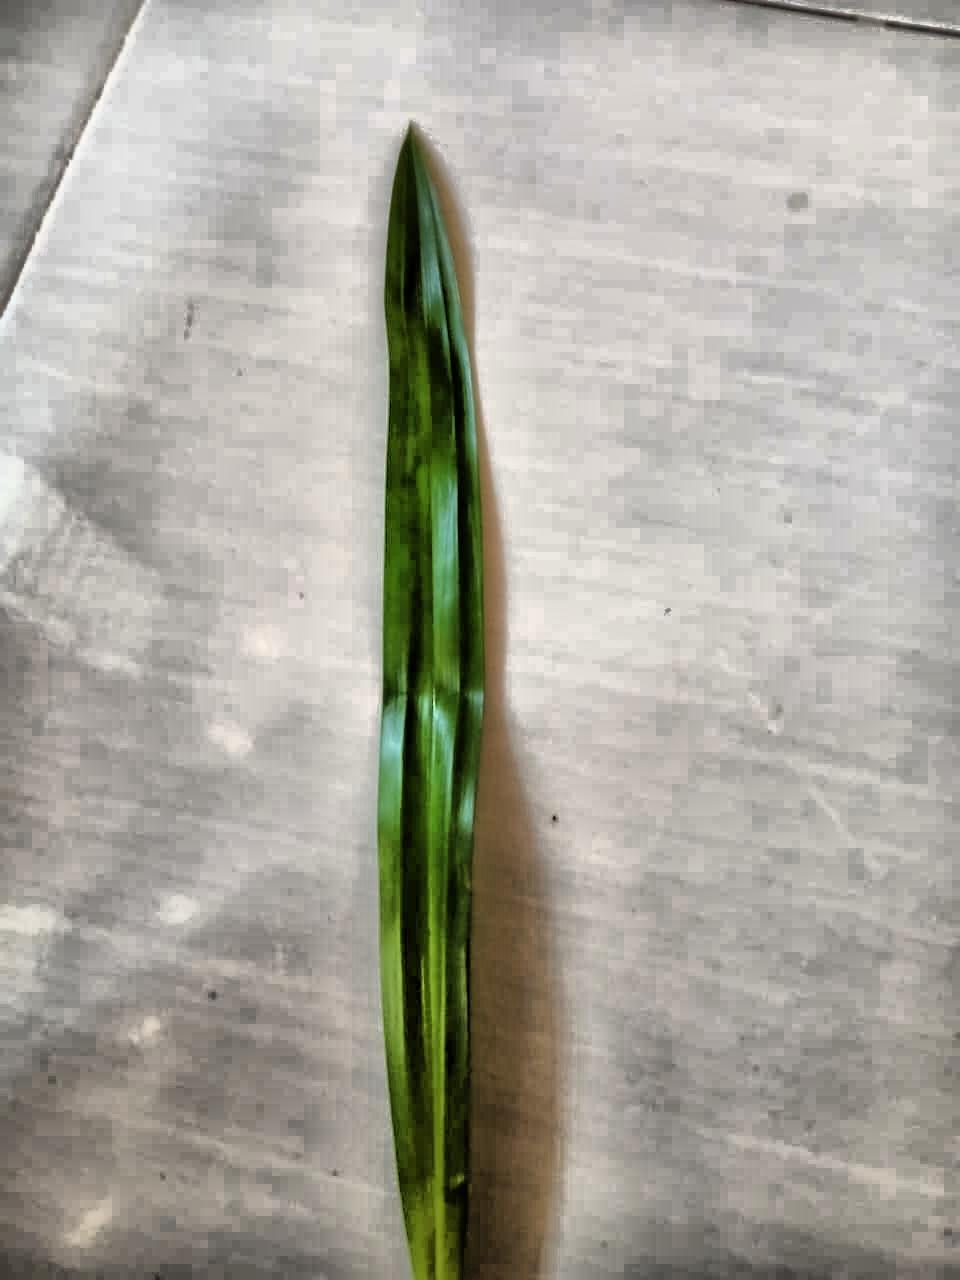daun pandan: (377, 127, 484, 1279)
